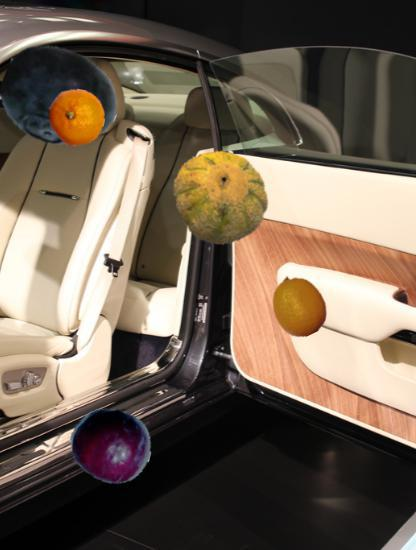Blueberry: (1, 38, 120, 157)
Cantaloupe: (172, 148, 269, 245)
Lemon: (267, 274, 331, 338), (48, 89, 105, 146)
Plum: (70, 405, 152, 487)
